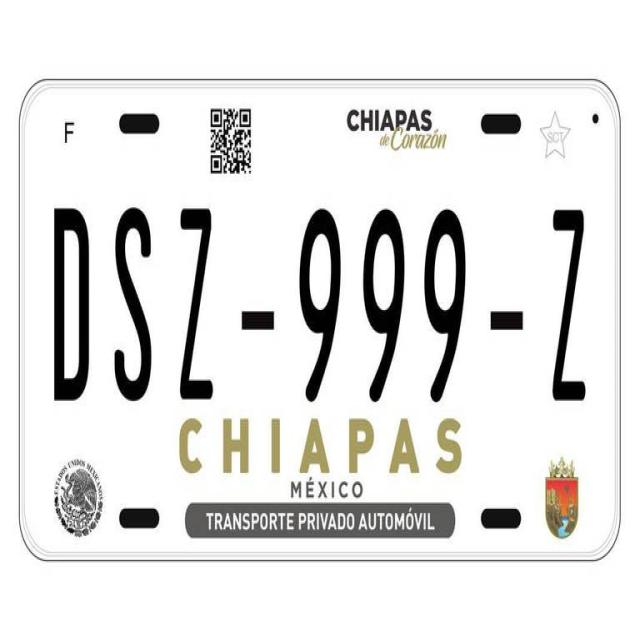placa: (28, 186, 607, 412)
